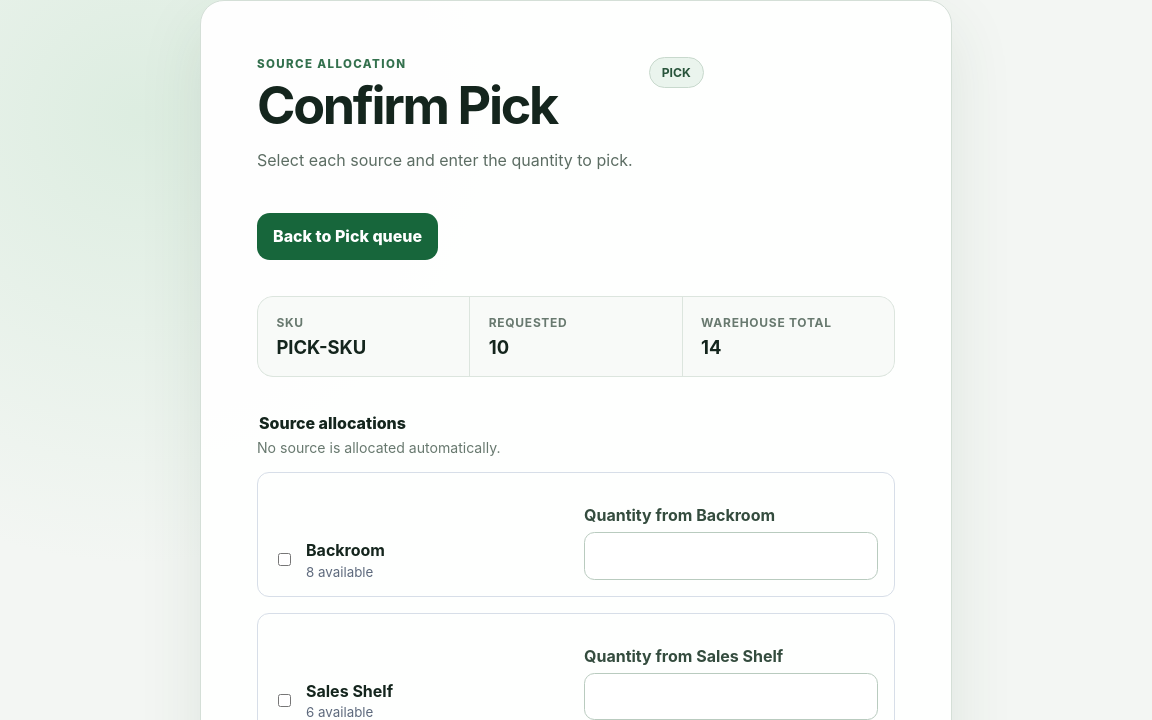
US-PICK-001 Pick page › shows source availability and live picked/requested/remaining totals
Expected: the text "PICK-SKU" is shown, [276,336,366,358]
Expected: the text "8 available" is shown, [306,564,385,580]
Click the checkbox labelled "Backroom 8 available" at x=284, y=560, box [278,553,291,566]
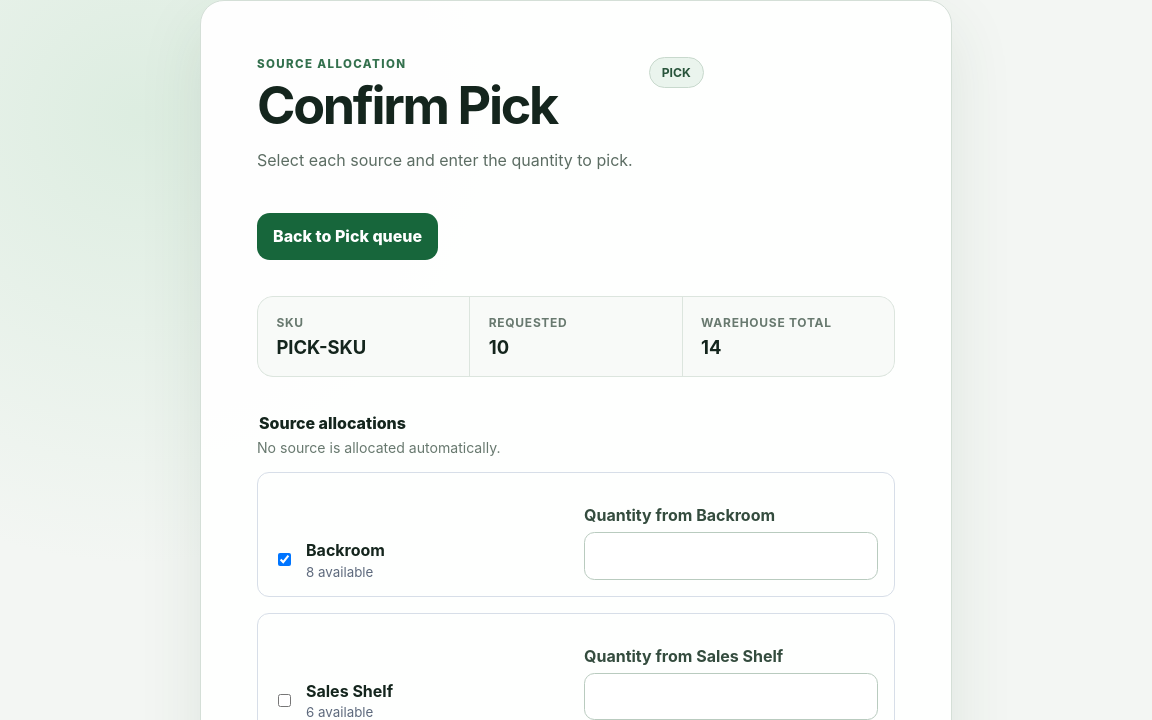
Type "6" into the field labelled "Quantity from Backroom" at x=731, y=556, box [584,532,878,580]
(page scrolled)
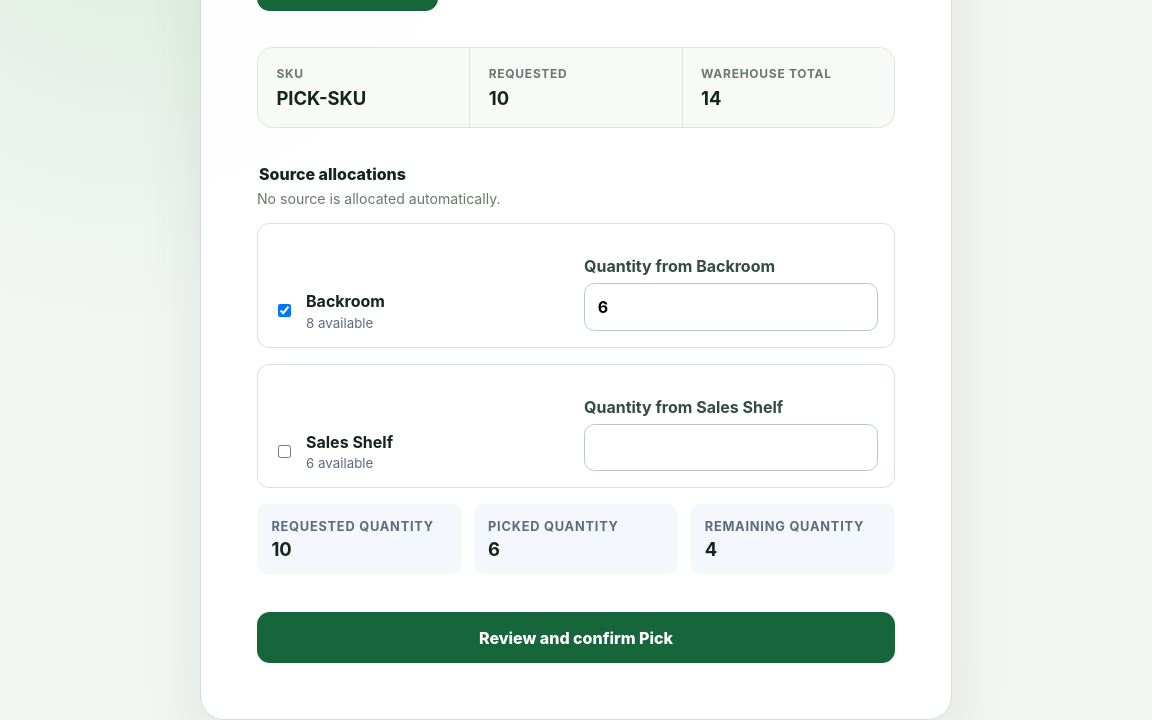
Expected: the text "6" is shown, [488,538,500,560]
Expected: the text "4" is shown, [705,538,717,560]
